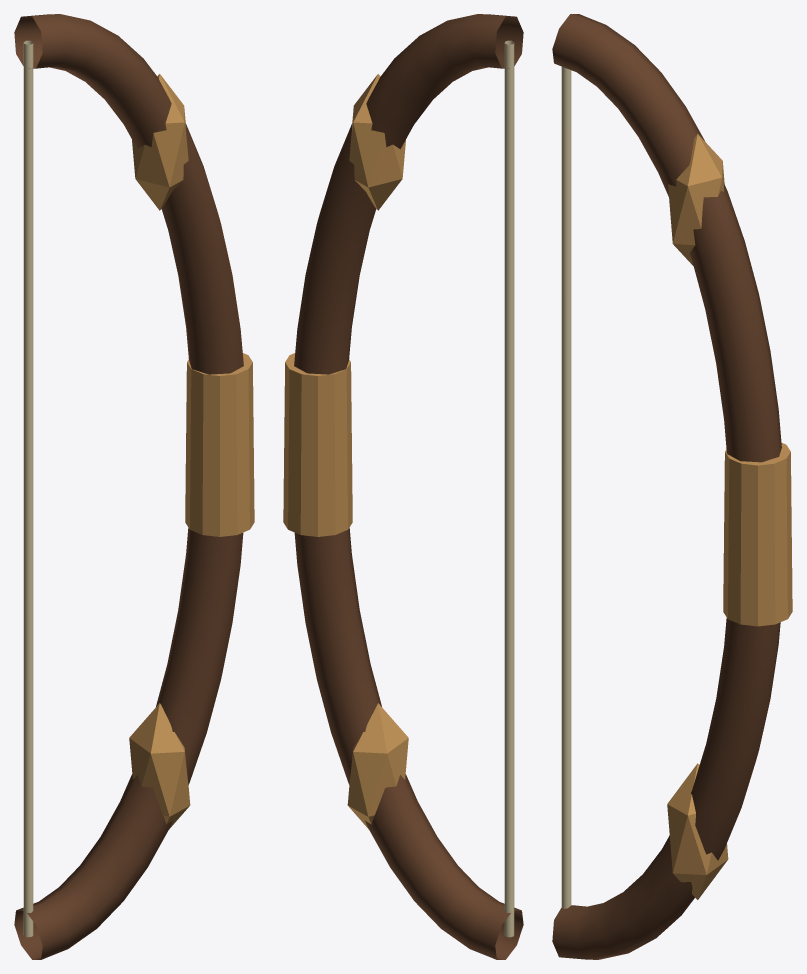
The model's file is Bow.fbx.
The picture shows the model from 3 angles, left to right: view 1: azimuth 30°, elevation 25°; view 2: azimuth 150°, elevation 25°; view 3: azimuth 330°, elevation 25°; orthographic projection.
Parts seen in each view (by area): view 1: Arsenal_Bow; view 2: Arsenal_Bow; view 3: Arsenal_Bow.
Part boxes in pixels (box(x1,y1,x2,y2)): Arsenal_Bow: box(14, 14, 254, 959); Arsenal_Bow: box(283, 14, 523, 959); Arsenal_Bow: box(552, 14, 792, 959).
Size of the model in its own units: 41.3 by 165 by 11.06.
